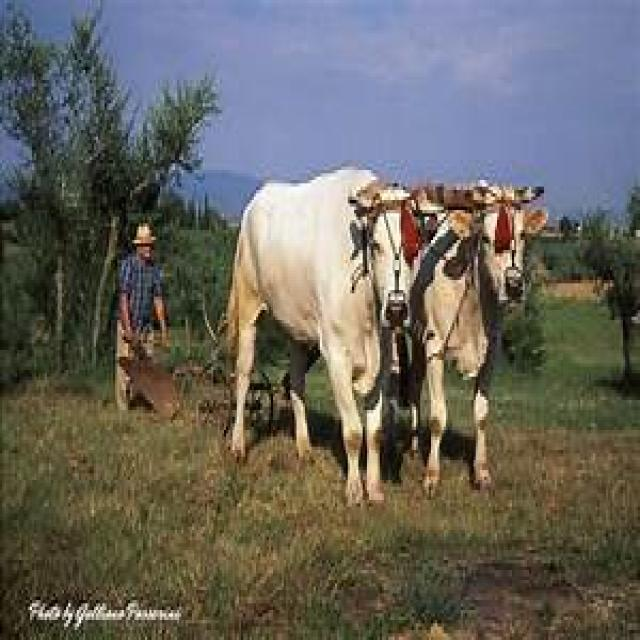cow: (222, 167, 412, 507), (403, 183, 548, 497)
